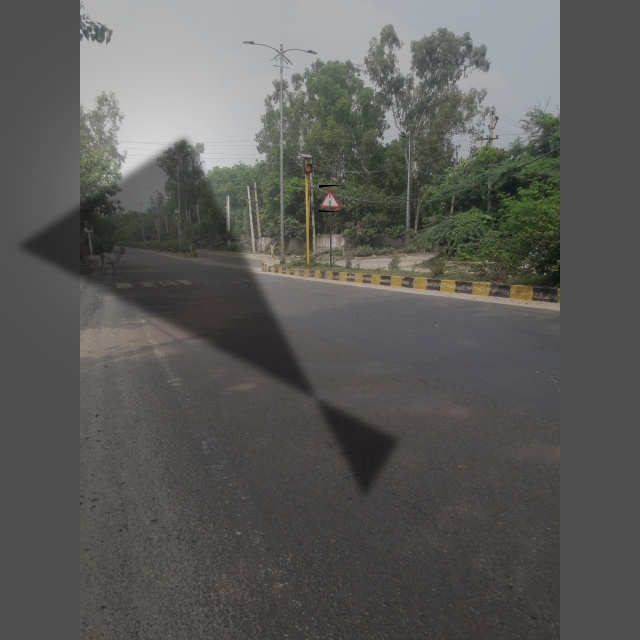Gap_in_Median: (319, 185, 343, 212)
